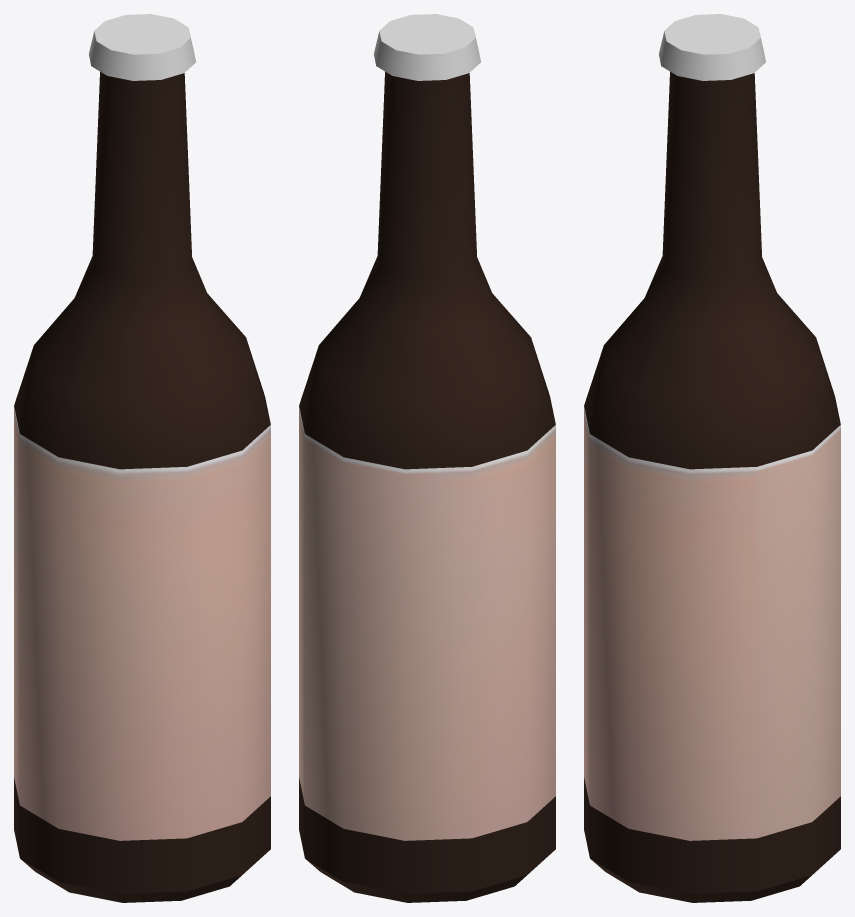
File: SM_drink_beer_02.fbx
3 views of the same model, side by side, from view 1: azimuth 30°, elevation 25°; view 2: azimuth 150°, elevation 25°; view 3: azimuth 270°, elevation 25° (orthographic).
Parts seen in each view (by area): view 1: Object32284; view 2: Object32284; view 3: Object32284.
Part boxes in pixels (left/top/right/bottom): Object32284: left=14, top=14, right=270, bottom=902; Object32284: left=299, top=14, right=555, bottom=902; Object32284: left=584, top=14, right=840, bottom=902.
Bounding box in the file's own units: 8.54 × 30.12 × 8.54.
